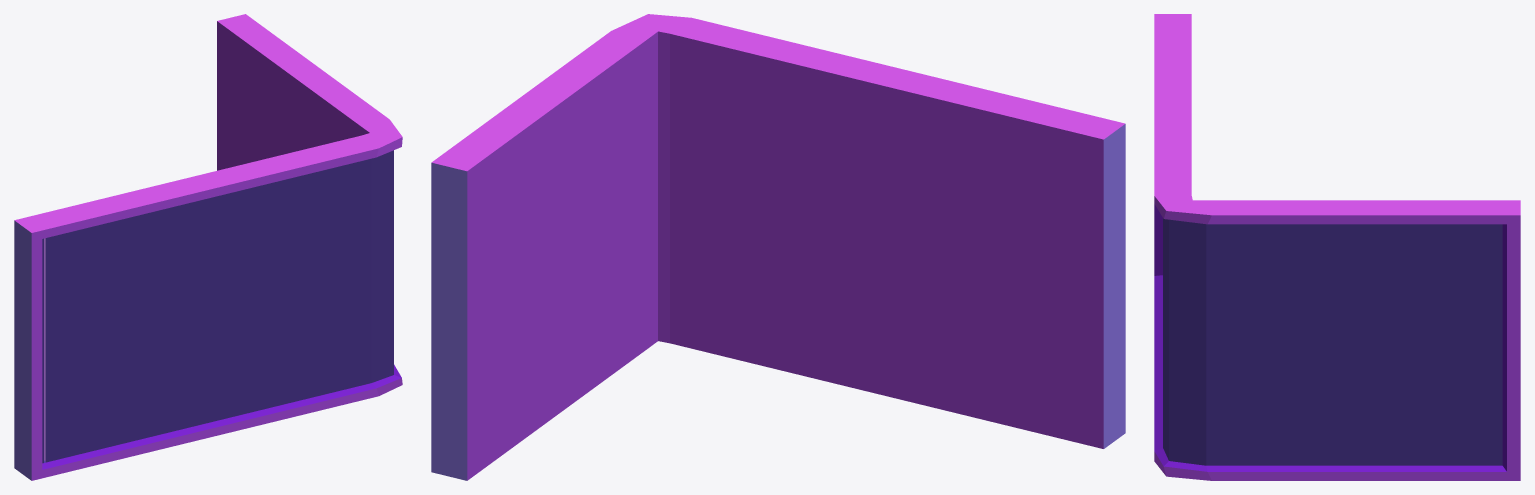
File: 3D_Billboard_13x8x10_img002.fbx
3 renders of one model, left to right at view 1: azimuth 30°, elevation 25°; view 2: azimuth 150°, elevation 25°; view 3: azimuth 270°, elevation 25°, orthographic. The views are drawn at different scales.
Visible parts, largest first — view 1: GEO_Billboard_13x8x10_img002; view 2: GEO_Billboard_13x8x10_img002; view 3: GEO_Billboard_13x8x10_img002.
Boxes of the visible parts, x1,y1,x2,y2 form: GEO_Billboard_13x8x10_img002: (14, 14, 402, 480); GEO_Billboard_13x8x10_img002: (431, 14, 1125, 480); GEO_Billboard_13x8x10_img002: (1154, 14, 1520, 480).
Size of the model in its own units: 13 by 10 by 8.
